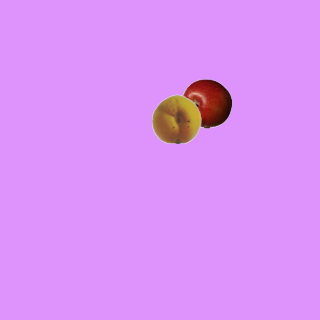Apple Braeburn: (181, 78, 231, 128)
Peach 2: (151, 93, 201, 143)
